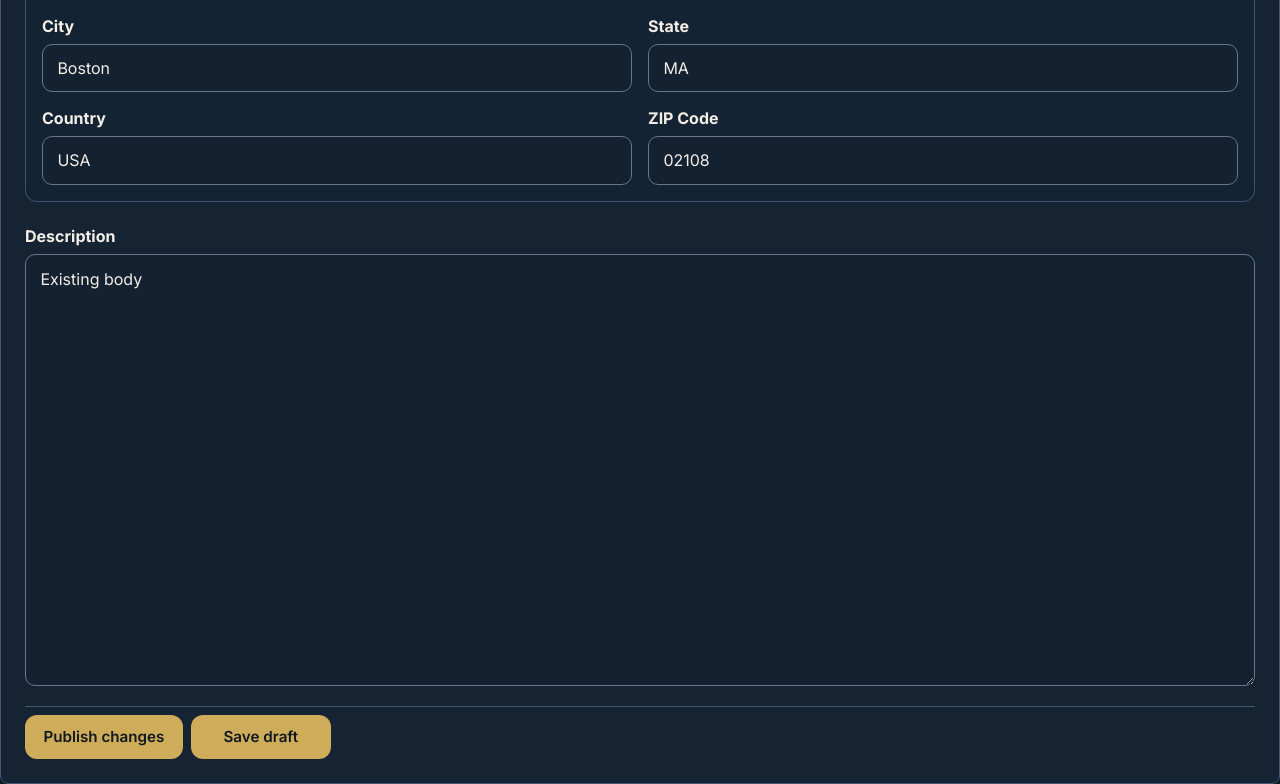
Test: EventEditorForm › shows a success banner after updating an event
(page scrolled)
Click the button "Publish changes".
click(104, 737)  # box [25, 715, 183, 759]
(page scrolled)
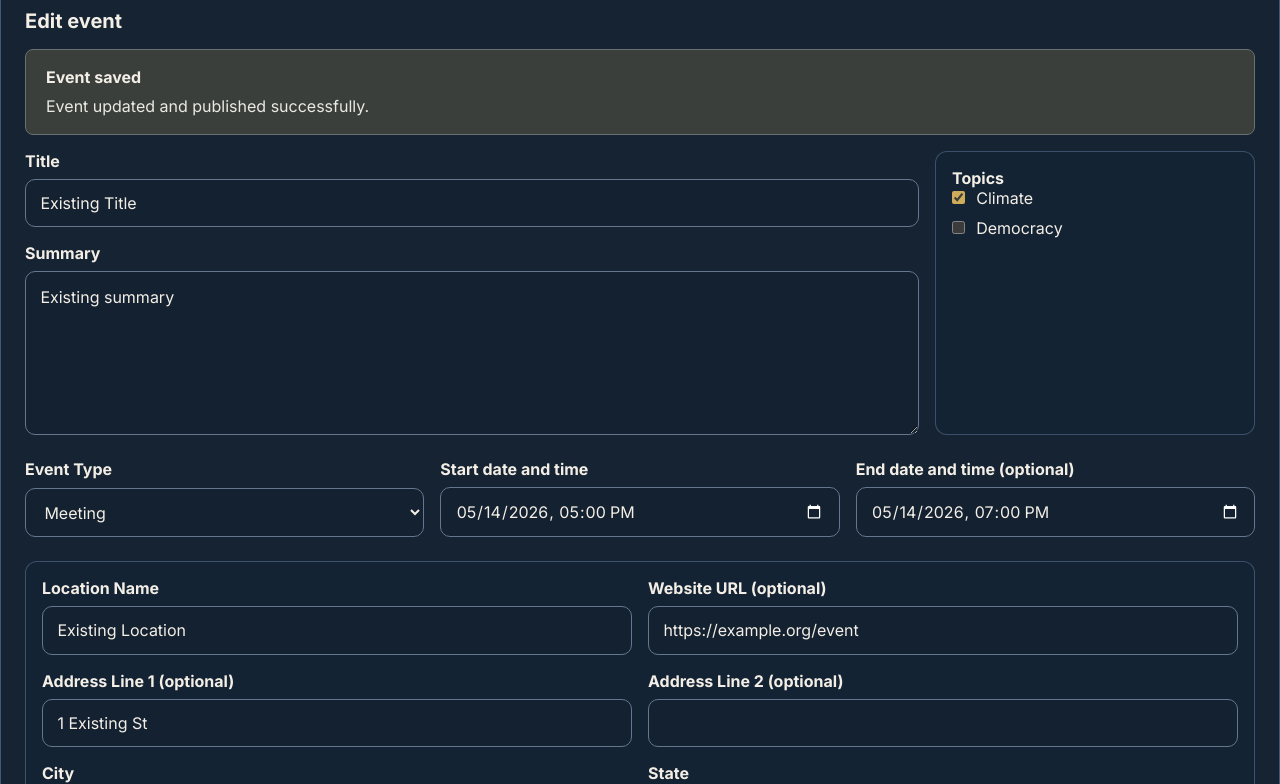
expect the text "Event saved" is shown: met, box [46, 67, 141, 87]
expect the text "Event updated and published successfully." is shown: met, box [46, 96, 369, 116]
